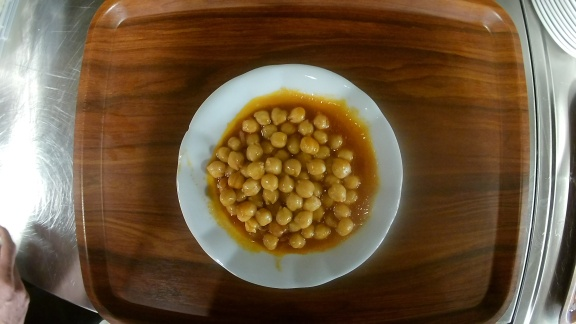sulunohut: (174, 64, 405, 290)
